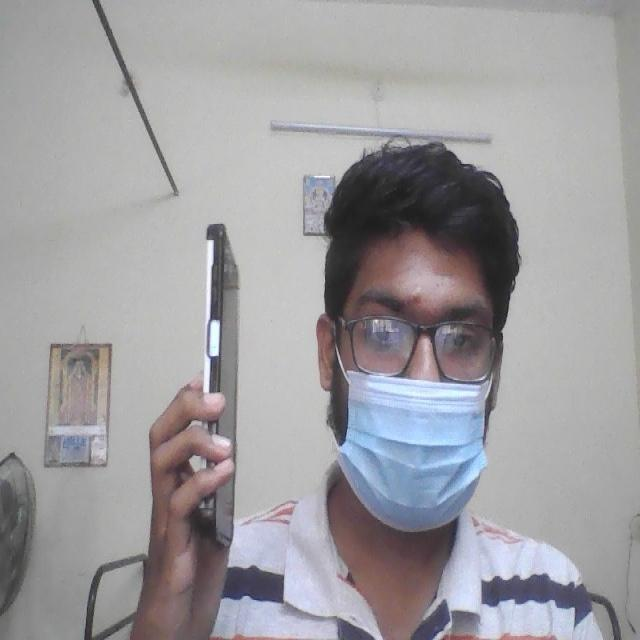Mobile: (198, 215, 243, 558)
